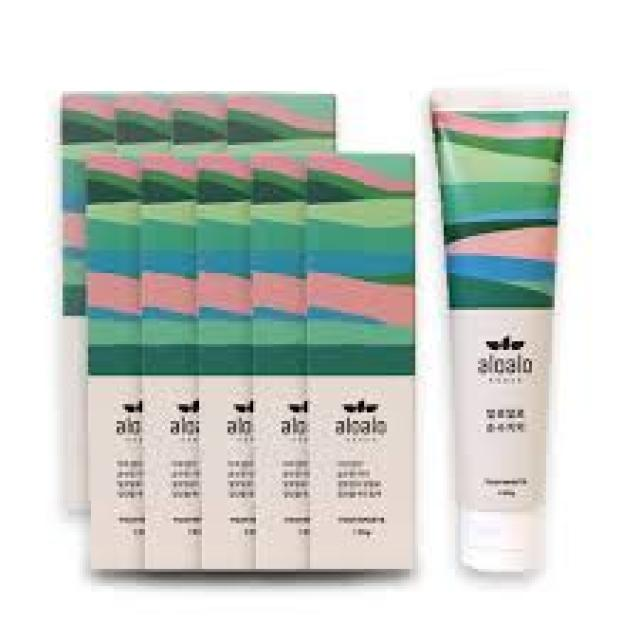toothpaste: (417, 82, 591, 588)
